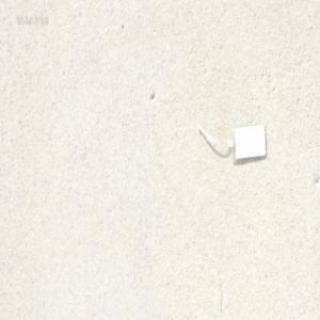LuggageTagtrack_idkeyframe: (195, 119, 268, 162)
